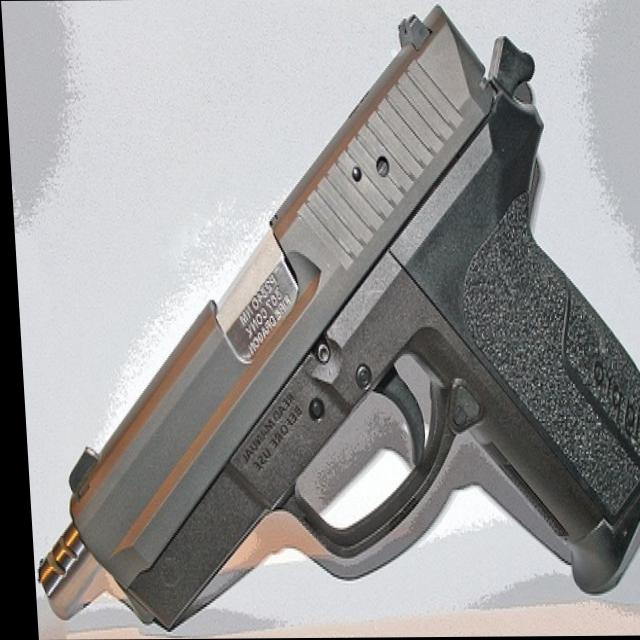handgun: (3, 1, 640, 631)
